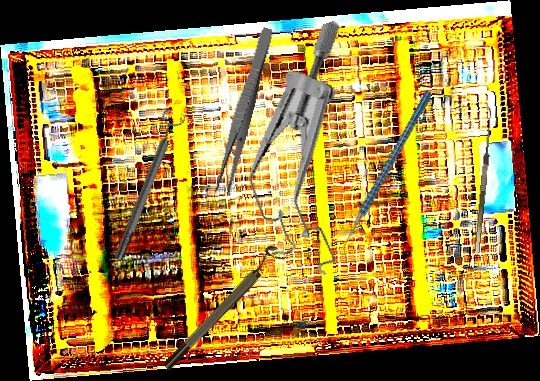Chopper: (296, 88, 479, 264)
Dressing Forceps: (213, 25, 275, 197)
Fixation Ring: (156, 242, 287, 373), (105, 107, 189, 264)
Hook Surgical: (466, 106, 495, 254)
Speculum: (203, 19, 416, 290)
